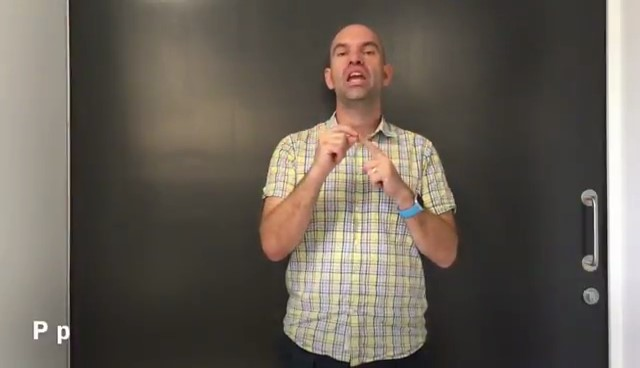P: (308, 120, 411, 209)
